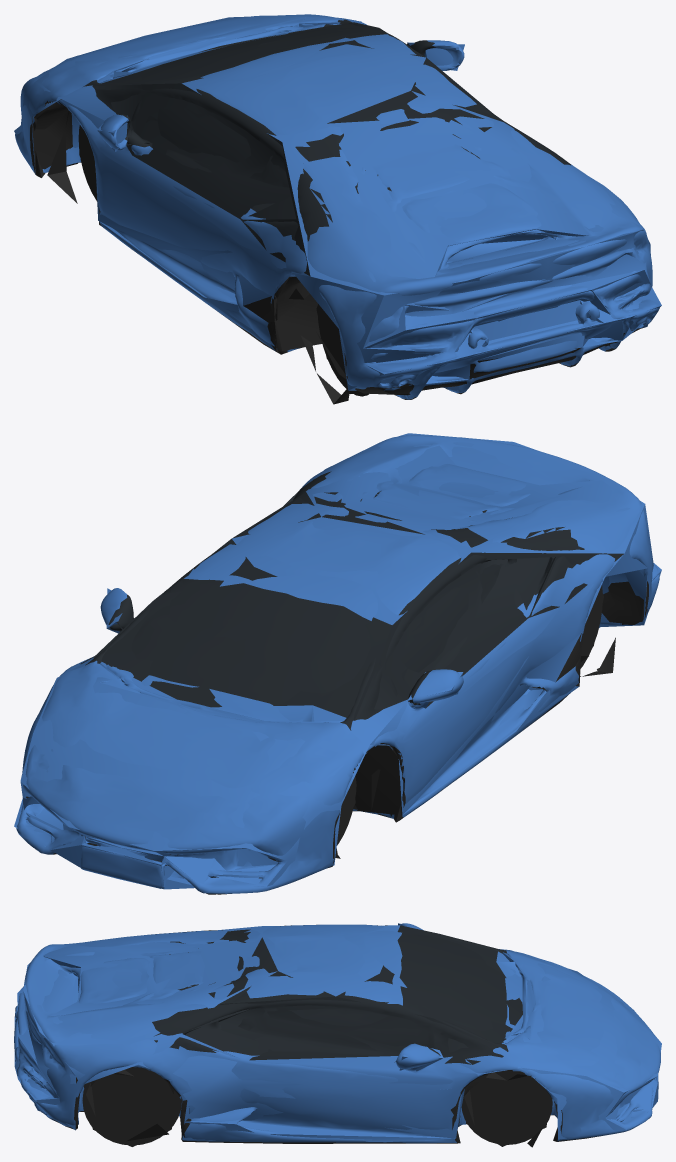
File: lamborghini-huracan.glb
The picture shows the model from 3 angles, top to bottom: view 1: azimuth 30°, elevation 25°; view 2: azimuth 150°, elevation 25°; view 3: azimuth 270°, elevation 25°; orthographic projection. The views are drawn at different scales.
Parts seen in each view (by area): view 1: body, far; view 2: body, far; view 3: body, far.
Part boxes in pixels (left/top/right/bottom): body: left=15, top=14, right=659, bottom=404; far: left=14, top=16, right=661, bottom=393; body: left=16, top=435, right=659, bottom=894; far: left=14, top=433, right=661, bottom=889; body: left=14, top=923, right=660, bottom=1147; far: left=14, top=923, right=661, bottom=1146.
Bounding box in the file's own units: 2.26 × 1.21 × 4.61.
